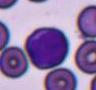L: (24, 27, 70, 69)
